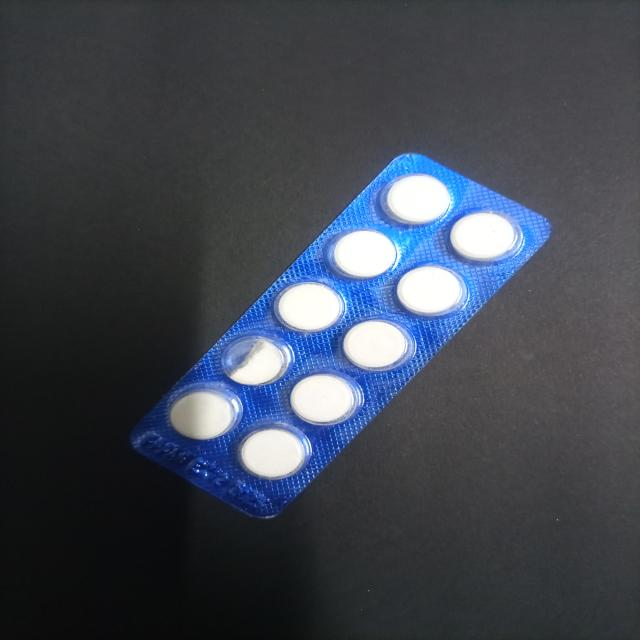defect: (218, 332, 294, 387)
